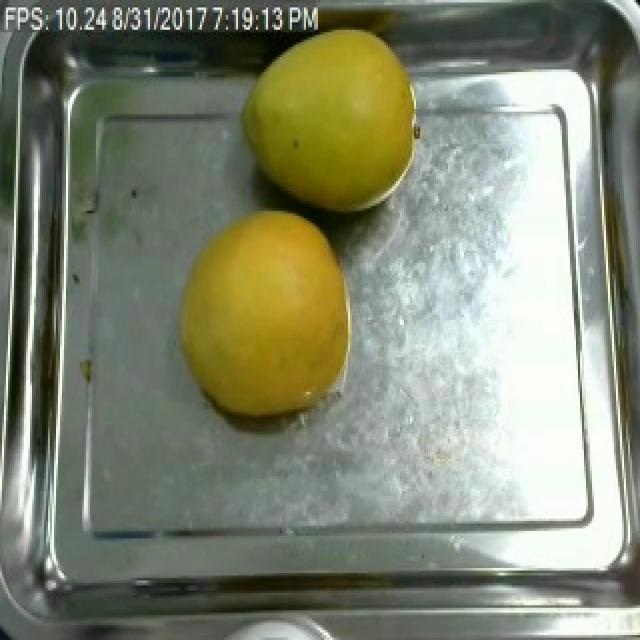fruit: (164, 201, 362, 432), (232, 18, 426, 224)
